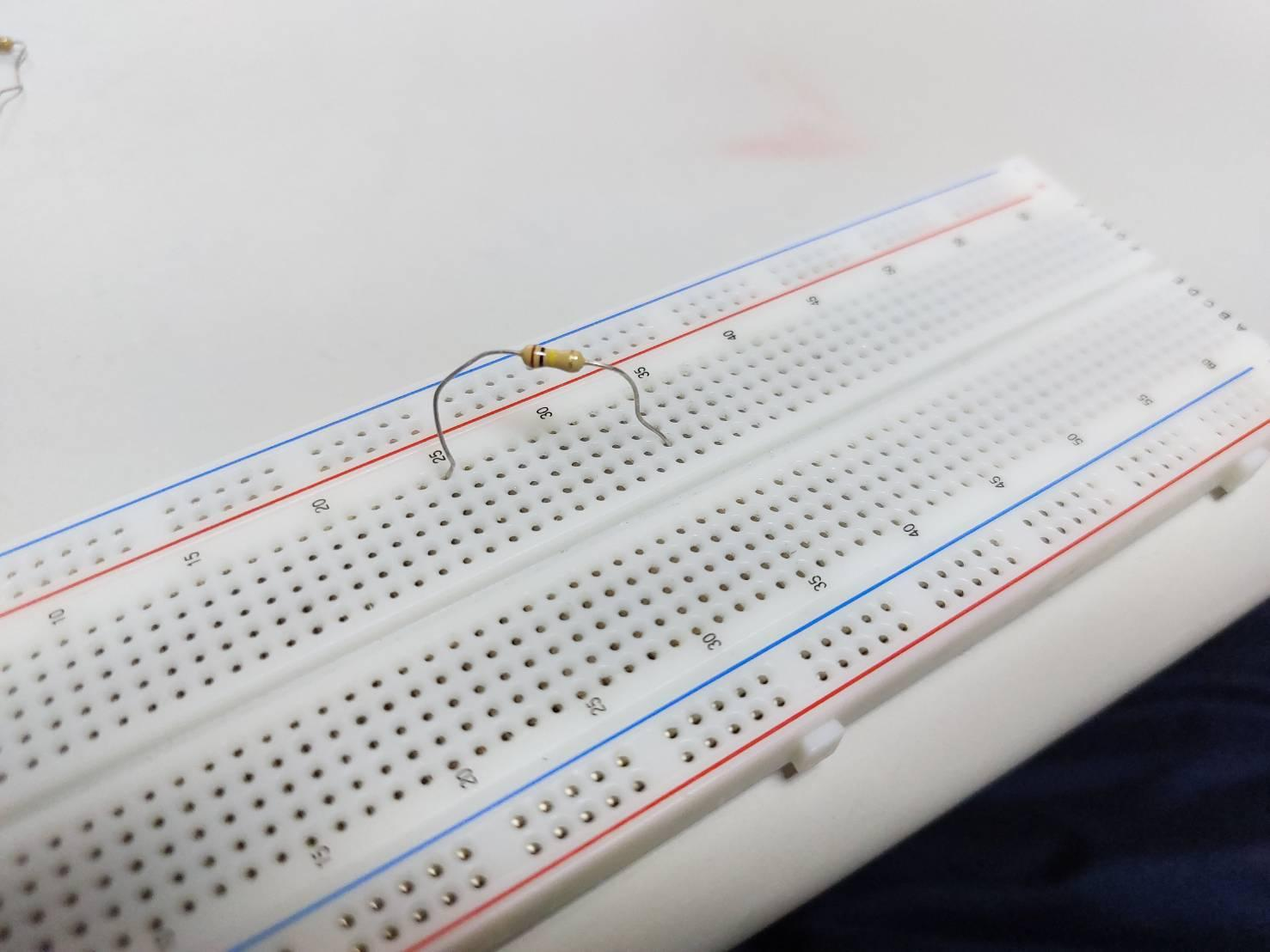resistor: (522, 344, 585, 373)
